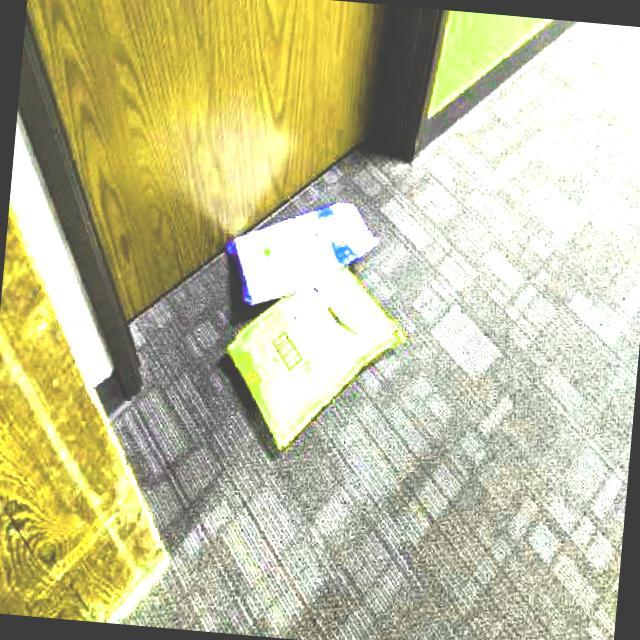Box: (212, 255, 414, 466), (215, 188, 384, 320)
